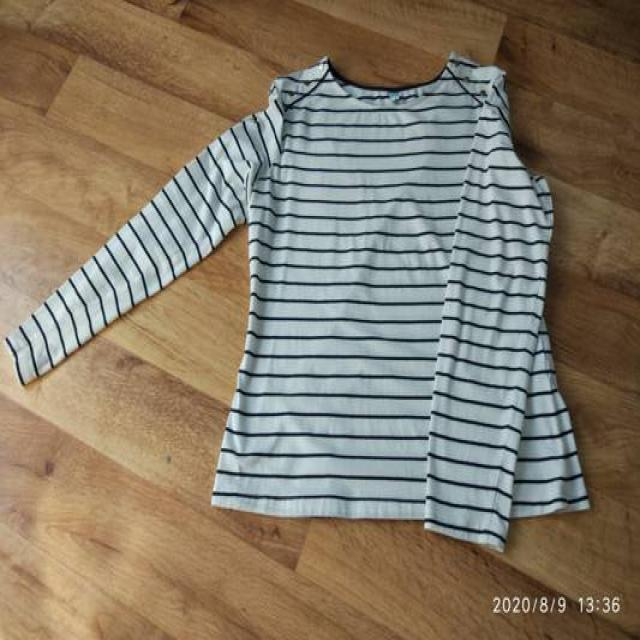Clothes -Biodegradable-: (5, 55, 591, 558)
